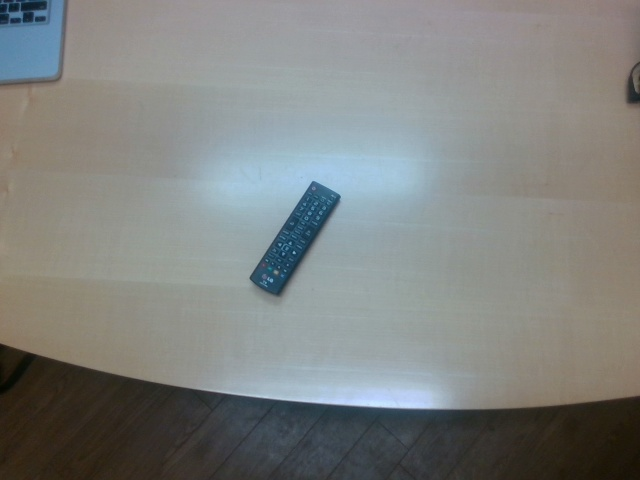remote: (248, 181, 341, 297)
